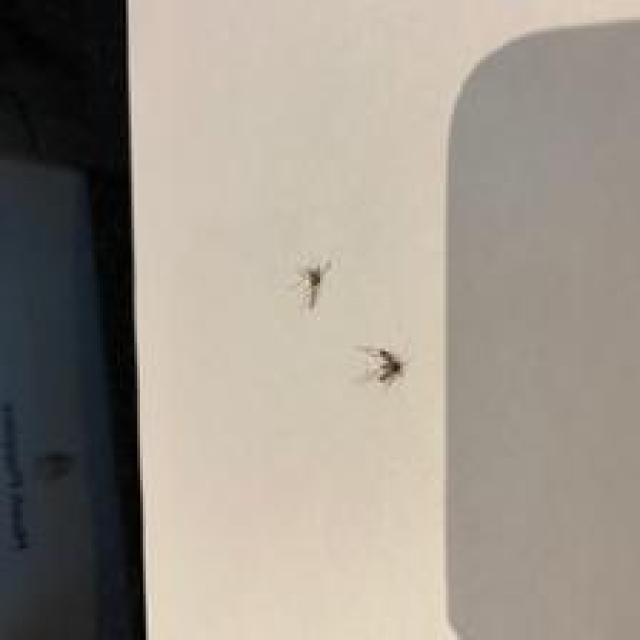Culex: (294, 259, 332, 310)
